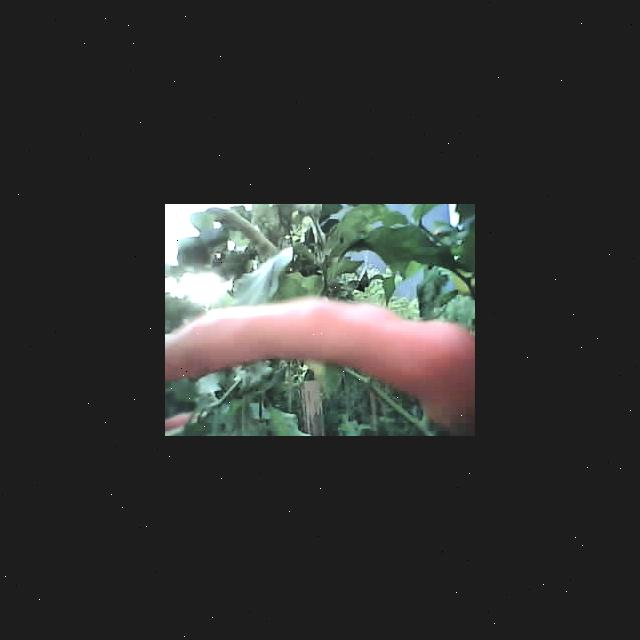Cabai: (165, 321, 475, 395)
